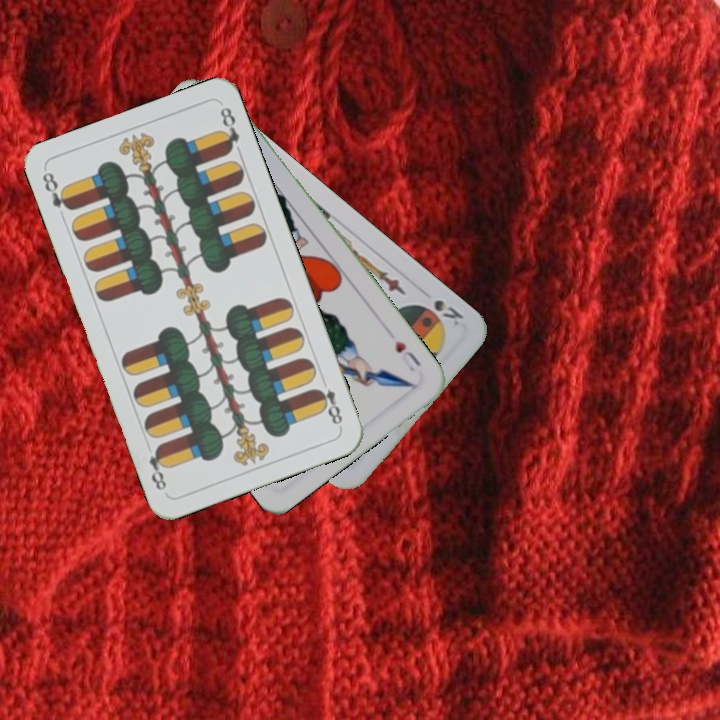E8: (311, 373, 345, 430), (38, 168, 75, 213)
HU: (390, 336, 424, 375)
SK: (429, 295, 466, 329)
